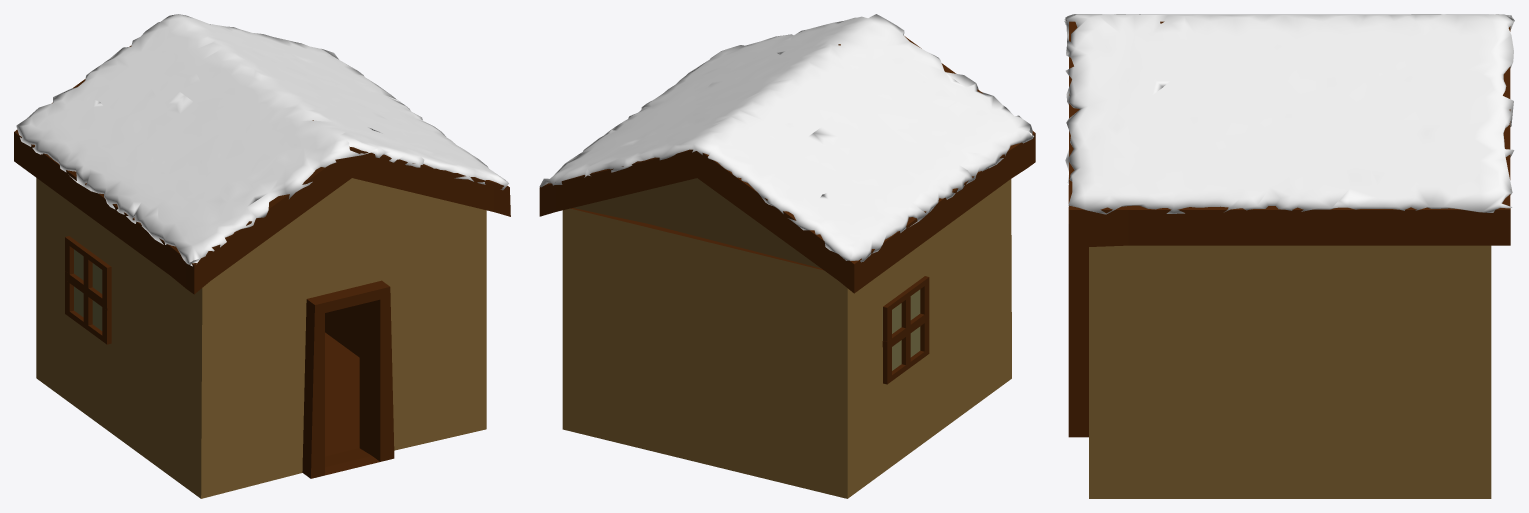
File: house.fbx
3 renders of one model, left to right at view 1: azimuth 30°, elevation 25°; view 2: azimuth 150°, elevation 25°; view 3: azimuth 270°, elevation 25°, orthographic. The views are drawn at different scales.
Visible parts, largest first — view 1: Cube, SnowBall.001; view 2: Cube, SnowBall.001; view 3: Cube, SnowBall.001.
Part boxes in pixels (box(x1,y1,x2,y2)): Cube: box(14, 45, 510, 498); SnowBall.001: box(16, 14, 508, 266); Cube: box(539, 36, 1035, 498); SnowBall.001: box(539, 14, 1033, 262); Cube: box(1068, 21, 1510, 498); SnowBall.001: box(1064, 14, 1514, 214).
Bounding box in the file's own units: 2290 × 2225 × 2283.
